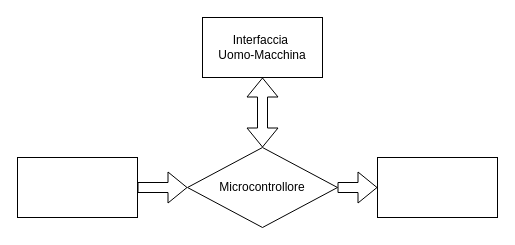
Some shapes in this 515 by 245 pixel diagram are drawn without their labels. Each missing label, with the centre of its shape:
"Attuatori lineari Finestre" belongs at point (437, 187).
"Sensori" belongs at point (77, 187).
